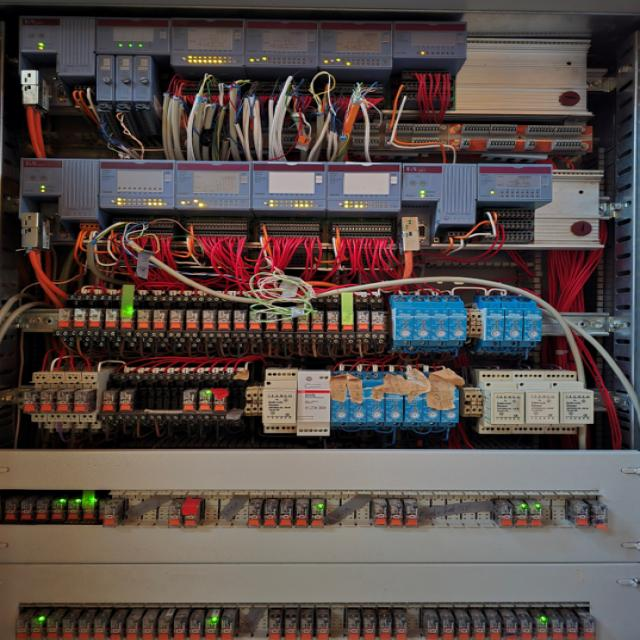Dimmer: (479, 372, 521, 433), (296, 370, 332, 436), (555, 372, 591, 434), (521, 372, 555, 432), (265, 371, 295, 433), (482, 303, 504, 346), (392, 304, 414, 342), (524, 303, 542, 347), (505, 303, 522, 346), (449, 304, 466, 346), (432, 305, 448, 348), (414, 304, 431, 344), (385, 392, 404, 426), (350, 390, 367, 426), (332, 391, 349, 426), (406, 393, 424, 425), (368, 391, 383, 427), (424, 398, 439, 426), (442, 404, 457, 427)
Relais: (589, 500, 608, 529), (493, 500, 511, 527), (570, 500, 588, 527), (101, 502, 120, 527), (373, 502, 388, 526), (264, 502, 278, 527), (514, 501, 528, 526), (310, 504, 325, 527), (168, 504, 182, 528), (183, 504, 197, 528), (405, 502, 419, 526), (530, 500, 542, 527), (280, 502, 292, 528), (390, 502, 403, 526), (473, 616, 486, 640), (488, 616, 501, 640), (582, 616, 595, 640), (57, 391, 71, 413), (16, 616, 28, 640), (425, 616, 437, 640), (20, 499, 33, 521), (250, 502, 261, 528), (204, 618, 217, 640), (137, 309, 151, 329), (169, 309, 183, 329), (395, 617, 407, 640), (458, 617, 470, 640), (535, 617, 547, 640), (566, 616, 578, 639), (505, 615, 516, 640), (119, 391, 132, 412), (109, 619, 122, 640), (296, 504, 308, 526), (30, 617, 42, 639), (126, 618, 138, 640), (443, 616, 454, 640), (58, 308, 71, 328), (105, 308, 118, 328), (202, 310, 215, 330), (37, 499, 48, 522), (380, 617, 391, 640), (75, 392, 87, 413), (183, 391, 195, 412), (214, 391, 226, 412), (46, 618, 58, 639), (94, 618, 106, 639), (189, 619, 201, 640), (89, 308, 102, 327), (312, 312, 325, 331), (63, 618, 74, 640), (172, 618, 183, 640), (301, 618, 312, 640), (74, 308, 86, 328), (218, 310, 230, 330), (234, 310, 246, 330), (24, 392, 36, 412), (40, 391, 52, 411), (102, 392, 114, 412), (4, 500, 16, 520), (52, 500, 64, 520), (154, 309, 165, 330), (250, 310, 261, 331), (373, 311, 384, 332), (142, 617, 152, 640), (222, 617, 232, 640), (318, 617, 328, 640), (348, 617, 358, 640), (364, 617, 374, 640), (522, 617, 532, 640), (552, 617, 562, 640), (186, 310, 198, 329), (298, 312, 310, 331), (357, 311, 369, 330), (69, 500, 79, 522), (79, 618, 89, 640), (159, 618, 169, 640), (270, 618, 280, 639), (266, 312, 277, 331), (282, 311, 292, 331), (200, 391, 210, 411), (327, 312, 338, 330), (122, 309, 132, 328), (85, 500, 94, 521), (286, 617, 294, 640), (342, 313, 352, 330)
SPS-System -Steuerungskomponente-: (174, 160, 253, 212), (255, 160, 325, 217), (327, 160, 398, 215), (102, 159, 174, 210), (246, 18, 318, 69), (318, 20, 391, 69), (170, 18, 244, 66), (18, 158, 100, 196), (19, 15, 95, 54), (394, 20, 468, 60), (403, 163, 476, 203), (94, 17, 170, 55), (479, 162, 551, 199)
